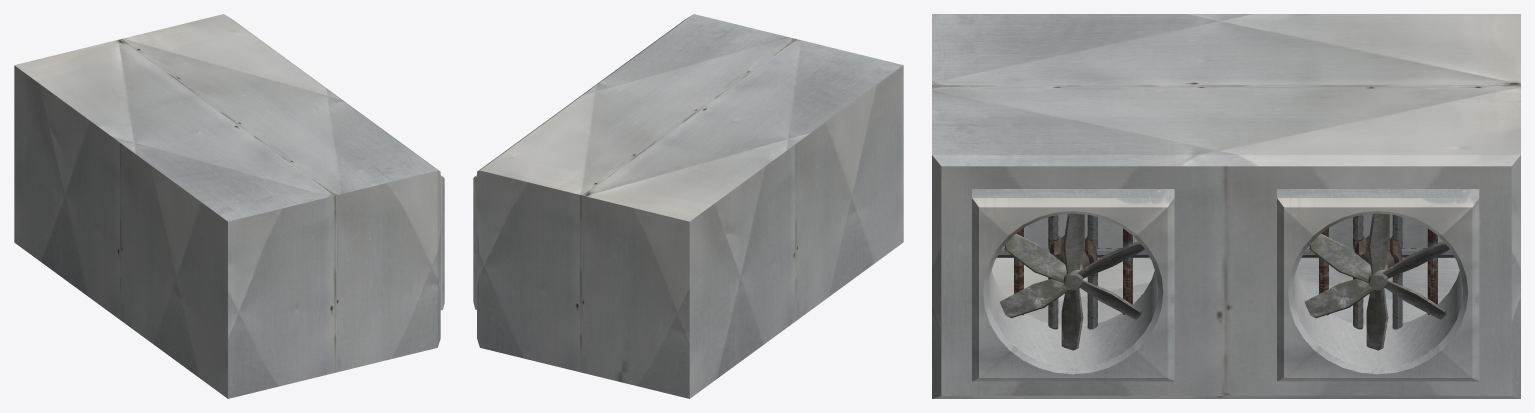
Rendered from arivents_bigfan_2.gltf.
3 views of the same model, side by side, from view 1: azimuth 30°, elevation 25°; view 2: azimuth 150°, elevation 25°; view 3: azimuth 270°, elevation 25° (orthographic). The views are drawn at different scales.
Visible parts, largest first — view 1: vent_big_box, big_fan_body; view 2: vent_big_box, big_fan_body.001; view 3: vent_big_box, big_fan_body, big_fan_body.001, big_fan.001, big_fan, big_fan_grid.001, big_fan_grid, big_fan_motor.001, big_fan_motor.
Part boxes in pixels (<box>): vent_big_box: <box>14,14,440,398</box>; big_fan_body: <box>440,175,444,310</box>; vent_big_box: <box>477,14,903,398</box>; big_fan_body.001: <box>473,175,476,309</box>; vent_big_box: <box>932,14,1520,398</box>; big_fan_body: <box>972,189,1174,381</box>; big_fan_body.001: <box>1277,189,1479,381</box>; big_fan.001: <box>1304,213,1449,350</box>; big_fan: <box>1000,213,1144,350</box>; big_fan_grid.001: <box>1302,215,1454,329</box>; big_fan_grid: <box>997,214,1149,329</box>; big_fan_motor.001: <box>1354,235,1402,277</box>; big_fan_motor: <box>1049,235,1097,277</box>.
Size of the model in its own units: 1.84 by 1.33 by 2.91.
5 materials, 5 textured.
